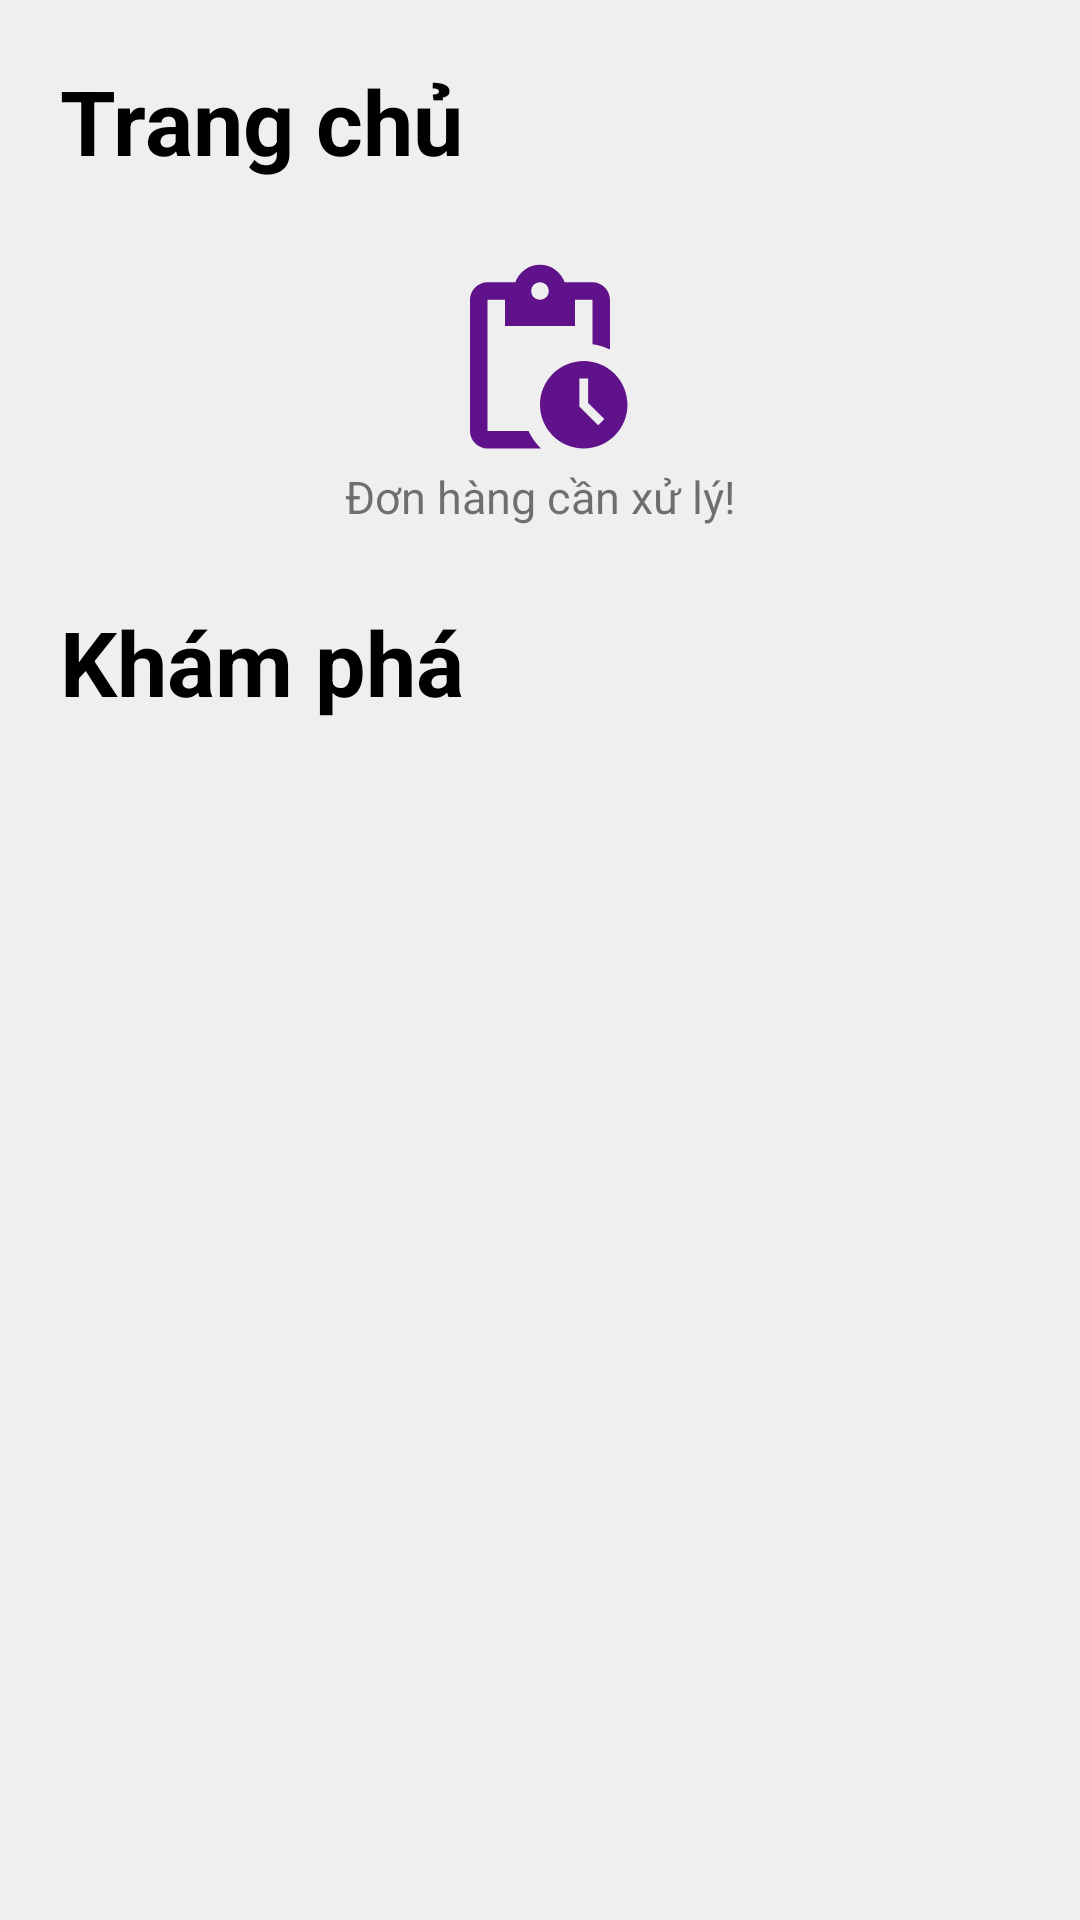

Icons on this 1080×1920 Android screen, each with the point to tap as [x,y]:
pending actions: [549,356]
